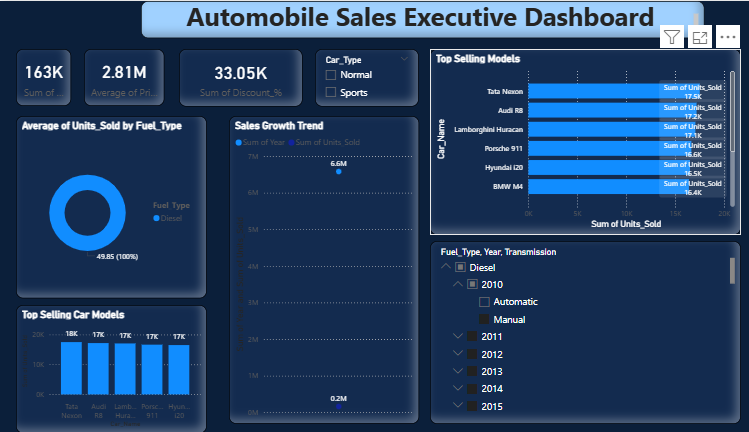

The page's visual inventory and layout, read from the dashboard file:
{"tool":"powerbi","page":{"name":"Page 1","canvas":[1280,720],"ordinal":0},"visuals":[{"type":"card","fields":{"Values":["Avg(car_sales_with_names_10000x21.Price)"]},"box":[139.7,79.2,133.9,95],"z":0},{"type":"donutChart","fields":{"Category":["car_sales_with_names_10000x21.Fuel_Type"],"Y":["Avg(car_sales_with_names_10000x21.Units_Sold)"]},"box":[27.4,191.5,318.2,303.8],"z":1000},{"type":"areaChart","title":"Sales Growth Trend","fields":{"Y":["Sum(car_sales_with_names_10000x21.Year)","Sum(car_sales_with_names_10000x21.Units_Sold)"]},"box":[381.7,191.7,316.7,513.3],"z":2000},{"type":"card","fields":{"Values":["Sum(car_sales_with_names_10000x21.Units_Sold)"]},"box":[27.4,79.2,92.2,95],"z":3000},{"type":"slicer","fields":{"Values":["car_sales_with_names_10000x21.Fuel_Type","car_sales_with_names_10000x21.Year","car_sales_with_names_10000x21.Transmission"]},"box":[716.7,400,518.3,305],"z":4000},{"type":"slicer","fields":{"Values":["car_sales_with_names_10000x21.Car_Type"]},"box":[525.6,79.2,172.8,96.5],"z":5000},{"type":"textbox","box":[234.7,0,938.9,61.9],"z":5001},{"type":"clusteredBarChart","title":"Top Selling Models","fields":{"Category":["car_sales_with_names_10000x21.Car_Name"],"Y":["Sum(car_sales_with_names_10000x21.Units_Sold)"]},"box":[716.7,80,518.3,310],"z":5002},{"type":"card","fields":{"Values":["Sum(car_sales_with_names_10000x21.Discount_%)"]},"box":[298.1,79.2,205.9,96.5],"z":5003},{"type":"clusteredColumnChart","title":"Top Selling Car Models","fields":{"Category":["car_sales_with_names_10000x21.Car_Name"],"Y":["Sum(car_sales_with_names_10000x21.Units_Sold)"]},"box":[27,506,318,214],"z":5004}]}

Visuals, with their boxes in screenshot pixels (x1, y1, x2, y2), scaled from the page's 1280x720 canvas onto the 749x432 screenshot:
card - Avg(car_sales_with_names_10000x21.Price): 82, 48, 160, 105
donutChart - car_sales_with_names_10000x21.Fuel_Type x Avg(car_sales_with_names_10000x21.Units_Sold): 16, 115, 202, 297
"Sales Growth Trend" areaChart: 223, 115, 409, 423
card - Sum(car_sales_with_names_10000x21.Units_Sold): 16, 48, 70, 105
slicer - car_sales_with_names_10000x21.Fuel_Type x car_sales_with_names_10000x21.Year: 419, 240, 723, 423
slicer - car_sales_with_names_10000x21.Car_Type: 308, 48, 409, 105
textbox: 137, 0, 687, 37
"Top Selling Models" clusteredBarChart: 419, 48, 723, 234
card - Sum(car_sales_with_names_10000x21.Discount_%): 174, 48, 295, 105
"Top Selling Car Models" clusteredColumnChart: 16, 304, 202, 431
